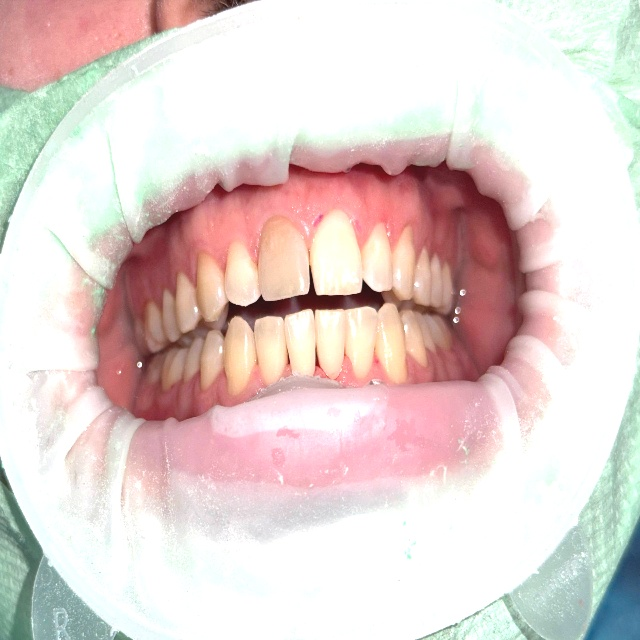clean_tooth: (255, 303, 399, 375), (314, 225, 395, 293), (439, 459, 506, 495), (259, 250, 308, 299), (36, 269, 71, 331), (228, 257, 259, 302), (40, 408, 79, 443), (63, 452, 85, 507), (231, 317, 253, 366)
plaque: (590, 532, 639, 639)
